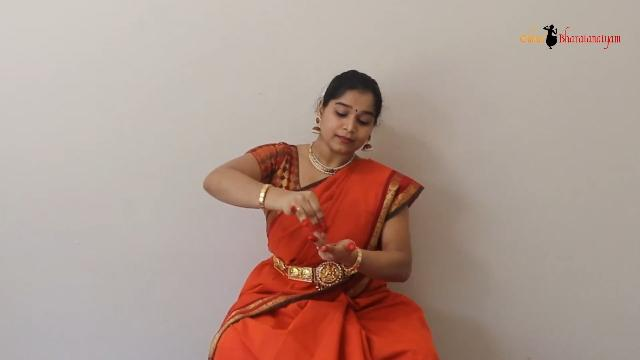katak: (304, 222, 390, 286)
